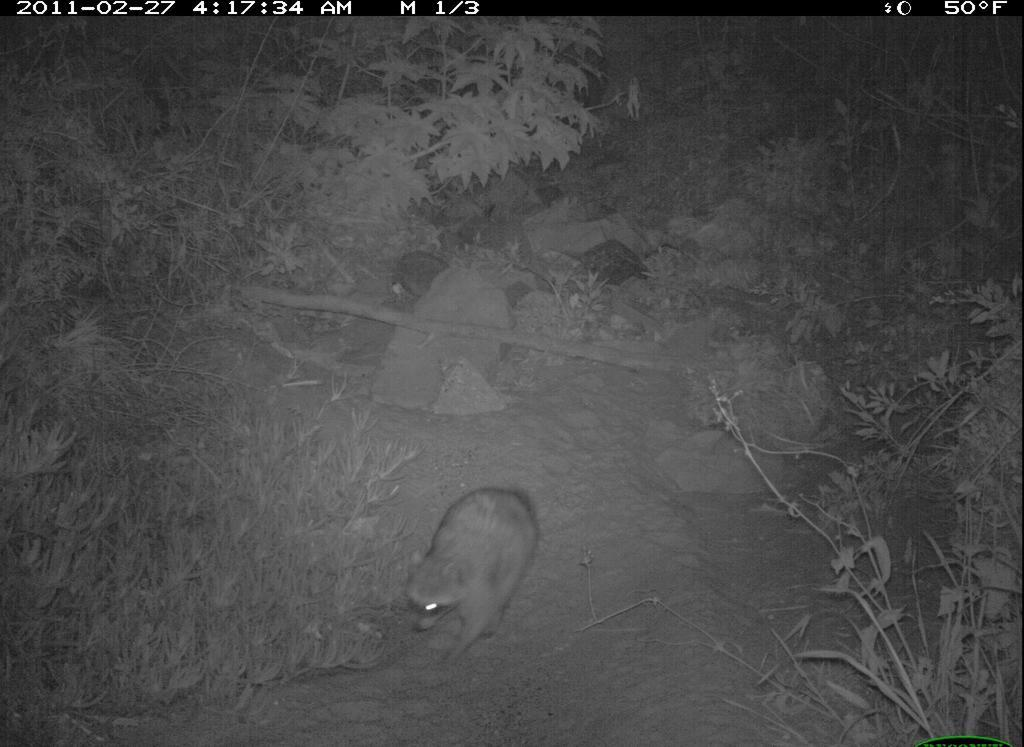raccoon: (393, 474, 551, 679)
